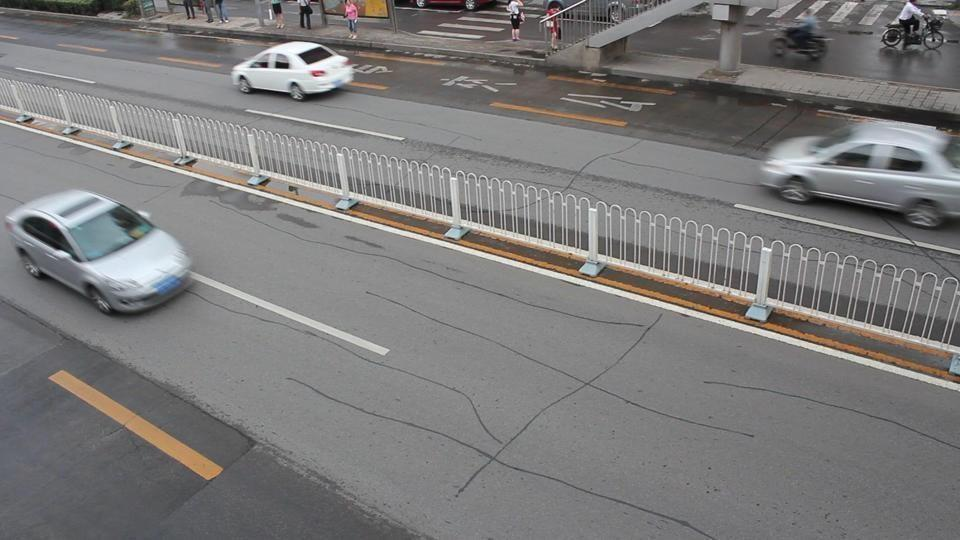car: (6, 188, 193, 316), (759, 120, 959, 228), (231, 40, 354, 100)
